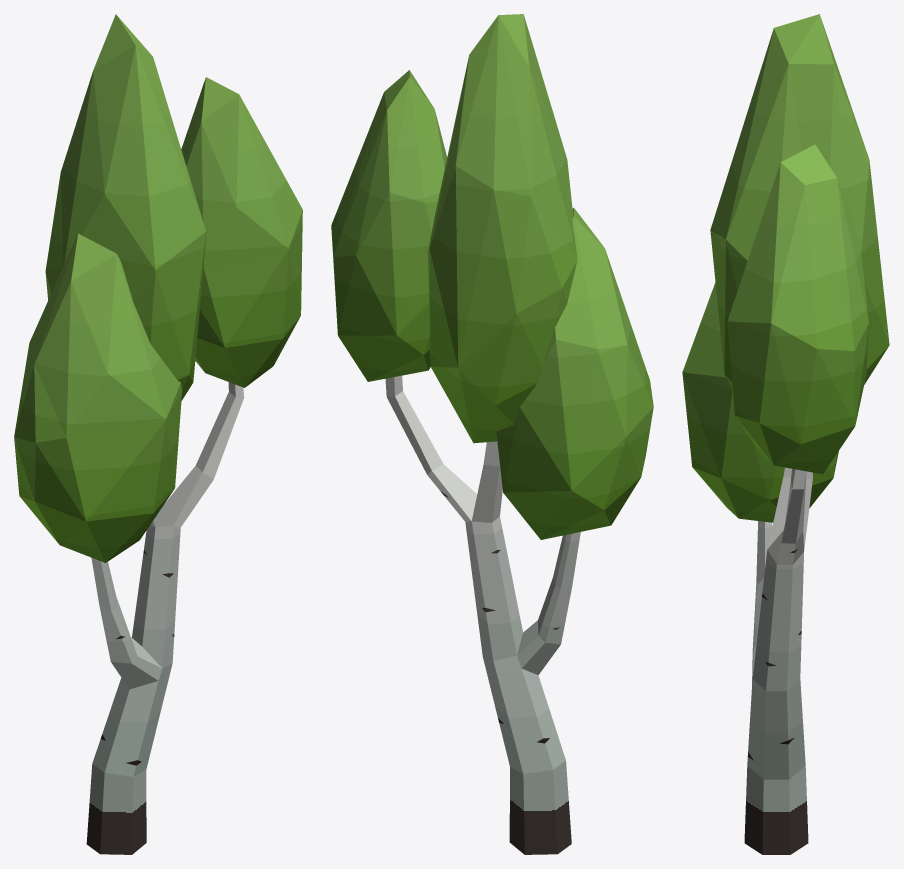
Rendered from Birch.fbx.
The picture shows the model from 3 angles, left to right: view 1: azimuth 30°, elevation 25°; view 2: azimuth 150°, elevation 25°; view 3: azimuth 270°, elevation 25°; orthographic projection. The views are drawn at different scales.
Visible parts, largest first — view 1: Birch; view 2: Birch; view 3: Birch.
Boxes of the visible parts, <box> form: Birch: <box>14,14,302,854</box>; Birch: <box>331,14,653,854</box>; Birch: <box>682,14,889,854</box>.
Size of the model in its own units: 3.45 by 9.59 by 2.14.
